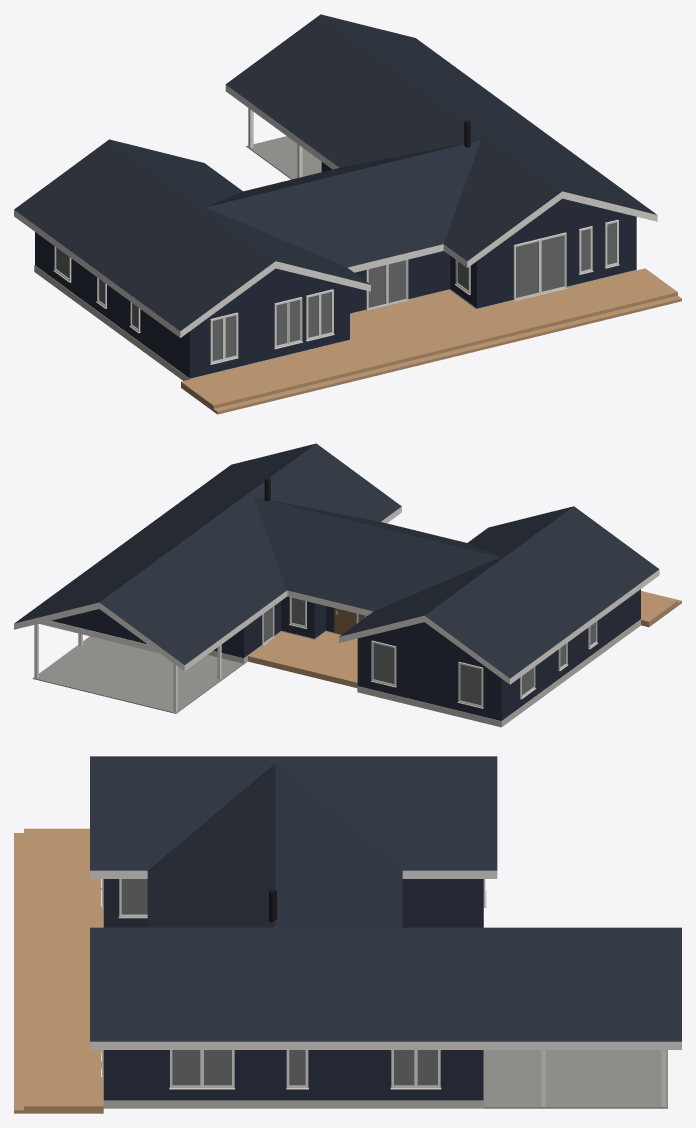
The model's file is teder224_c1_p0_m0.glb.
3 views of the same model, one above another, from view 1: azimuth 30°, elevation 25°; view 2: azimuth 150°, elevation 25°; view 3: azimuth 270°, elevation 25° (orthographic). The views are drawn at different scales.
Parts seen in each view (by area): view 1: roof, deck, wall, glass, curtain, fascia, frame, plinth, paving; view 2: roof, wall, paving, fascia, deck, glass, curtain, plinth, frame, door; view 3: roof, deck, wall, paving, fascia, glass, curtain, plinth, frame.
Boxes of the visible parts, <box> form: roof: <box>14,14,656,331</box>; deck: <box>181,268,681,414</box>; wall: <box>35,162,636,378</box>; glass: <box>56,222,616,360</box>; curtain: <box>56,222,616,360</box>; fascia: <box>14,85,657,337</box>; frame: <box>53,219,619,364</box>; plinth: <box>34,265,636,380</box>; paving: <box>246,136,321,179</box>; roof: <box>14,443,659,678</box>; wall: <box>51,589,640,720</box>; paving: <box>32,636,243,713</box>; fascia: <box>14,506,659,712</box>; deck: <box>248,591,681,687</box>; glass: <box>263,598,595,705</box>; curtain: <box>263,598,595,704</box>; plinth: <box>207,619,641,727</box>; frame: <box>262,597,598,708</box>; door: <box>334,608,355,634</box>; roof: <box>90,756,681,1041</box>; deck: <box>14,828,103,1113</box>; wall: <box>103,879,483,1100</box>; paving: <box>484,1050,667,1108</box>; fascia: <box>90,870,681,1106</box>; glass: <box>121,879,437,1085</box>; curtain: <box>121,879,437,1085</box>; plinth: <box>103,907,483,1108</box>; frame: <box>101,879,486,1089</box>.
Bounding box in the file's own units: 21.93 × 5.66 × 21.72.
Materials: 13 (5 with a texture image).
